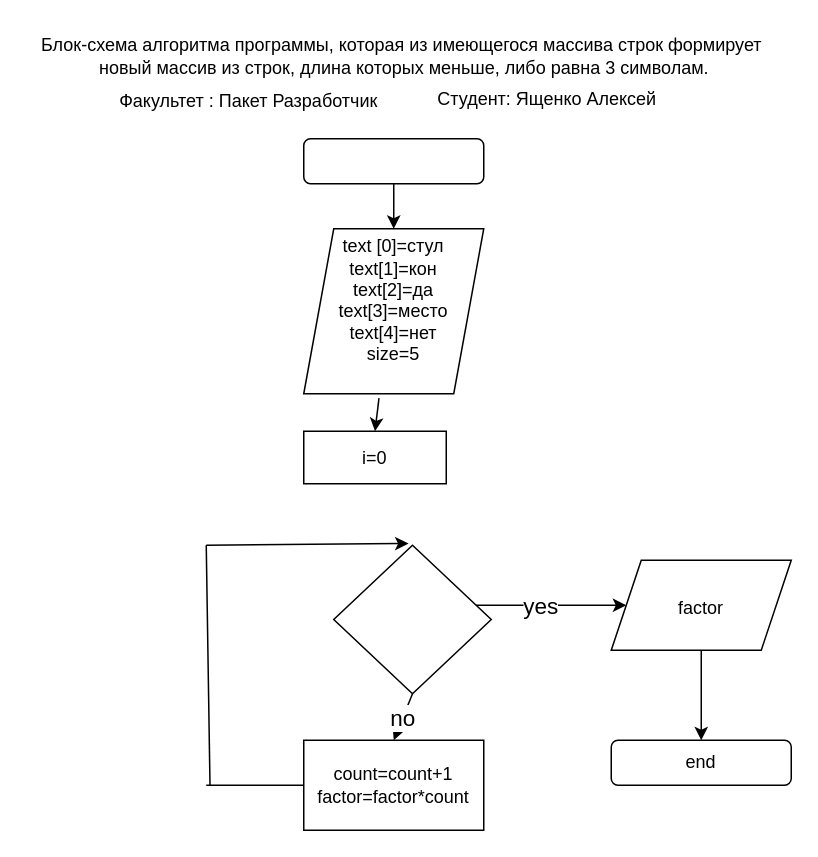
Some shapes in this 818 by 857 pixel diagram are drawn without their labels. The centre of each missing label's shape, as x and y in pixels:
"start" goes at point (393, 160).
"text[i].Lenght<=3" goes at point (411, 619).
